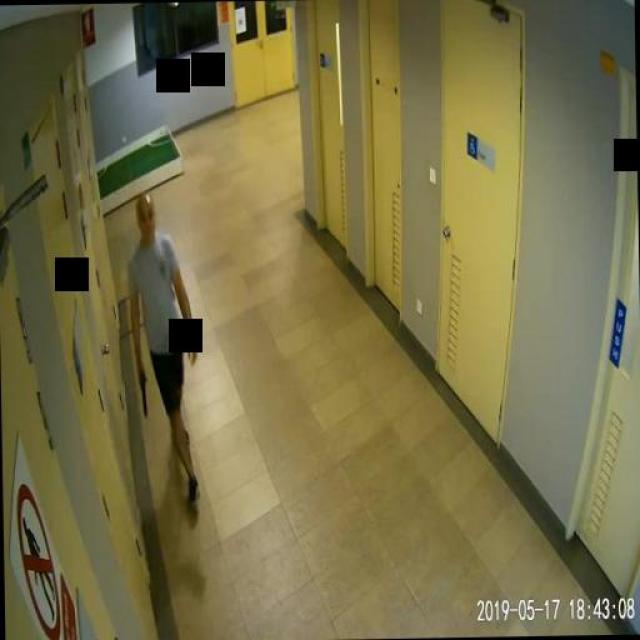gun: (136, 368, 146, 418)
